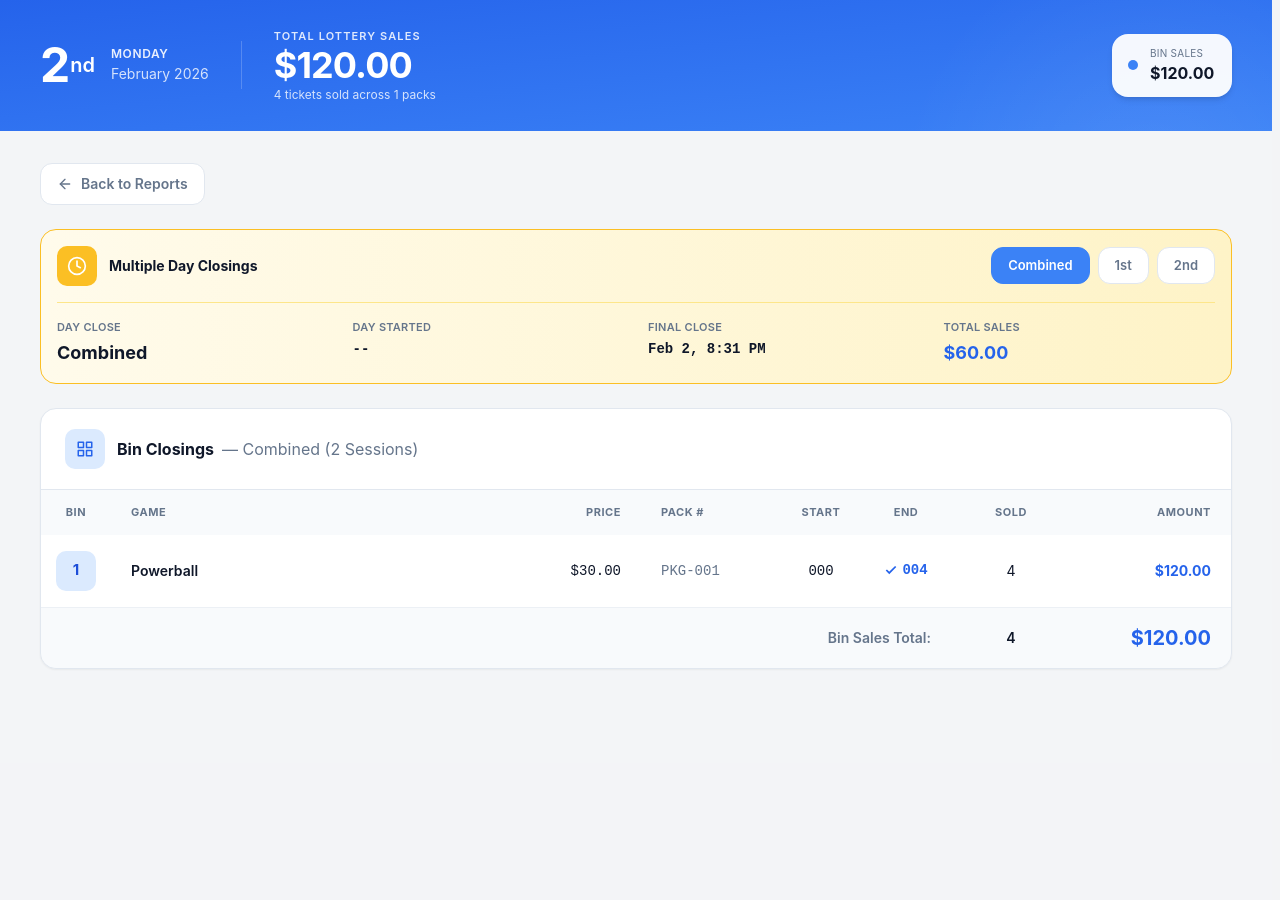
Test: LotteryDayReportPage › Multi-Closing Date+Time Format (BIZ-002) › Edge Cases - Null Timestamps with Multiple Closings › should handle both null timestamps gracefully with date+time format
Step 1. Click the button "1st" → (1123, 266), box [1098,247,1149,284]
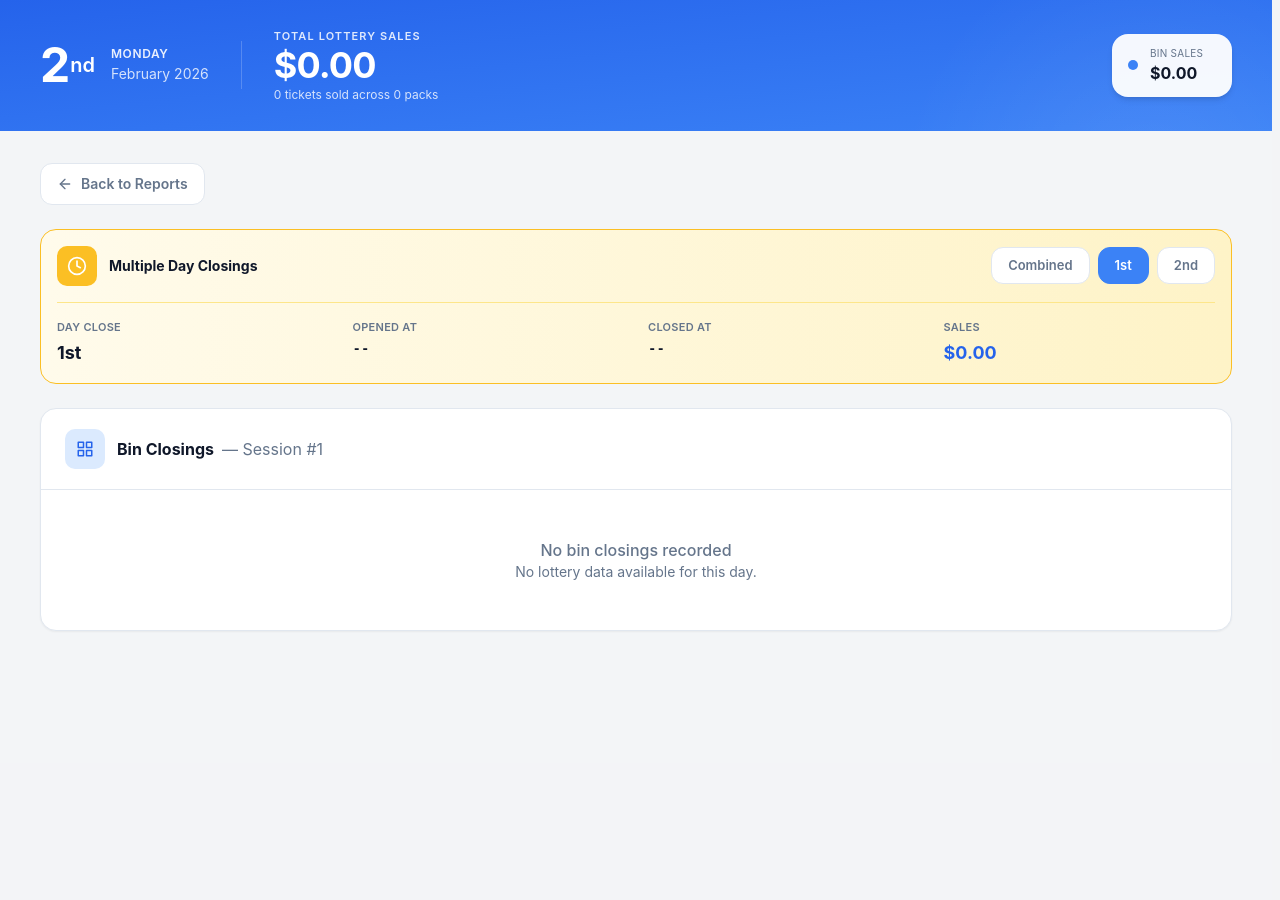
Now the text "--" below "Closed At" is shown, box [648,341,665,357]
